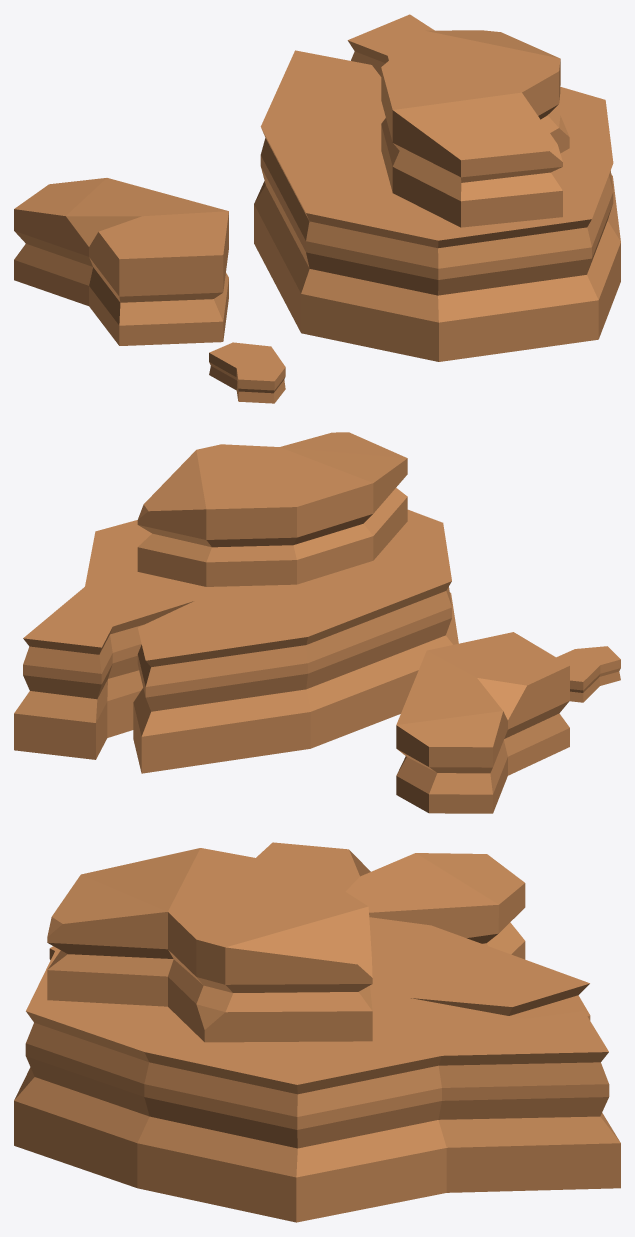
File: SandRocks_M2_LOD1.fbx
The picture shows the model from 3 angles, top to bottom: view 1: azimuth 30°, elevation 25°; view 2: azimuth 150°, elevation 25°; view 3: azimuth 270°, elevation 25°; orthographic projection. The views are drawn at different scales.
Visible parts, largest first — view 1: 25; view 2: 25; view 3: 25.
Boxes of the visible parts, box(x1,y1,x2,y2) form: 25: box(14, 14, 620, 403); 25: box(14, 432, 620, 813); 25: box(14, 842, 620, 1222).
Size of the model in its own units: 84.62 by 31.4 by 75.56.
